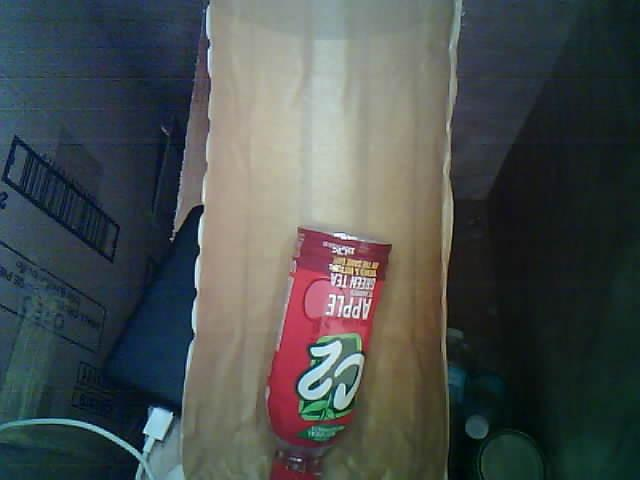small_bottle: (249, 219, 407, 480)
